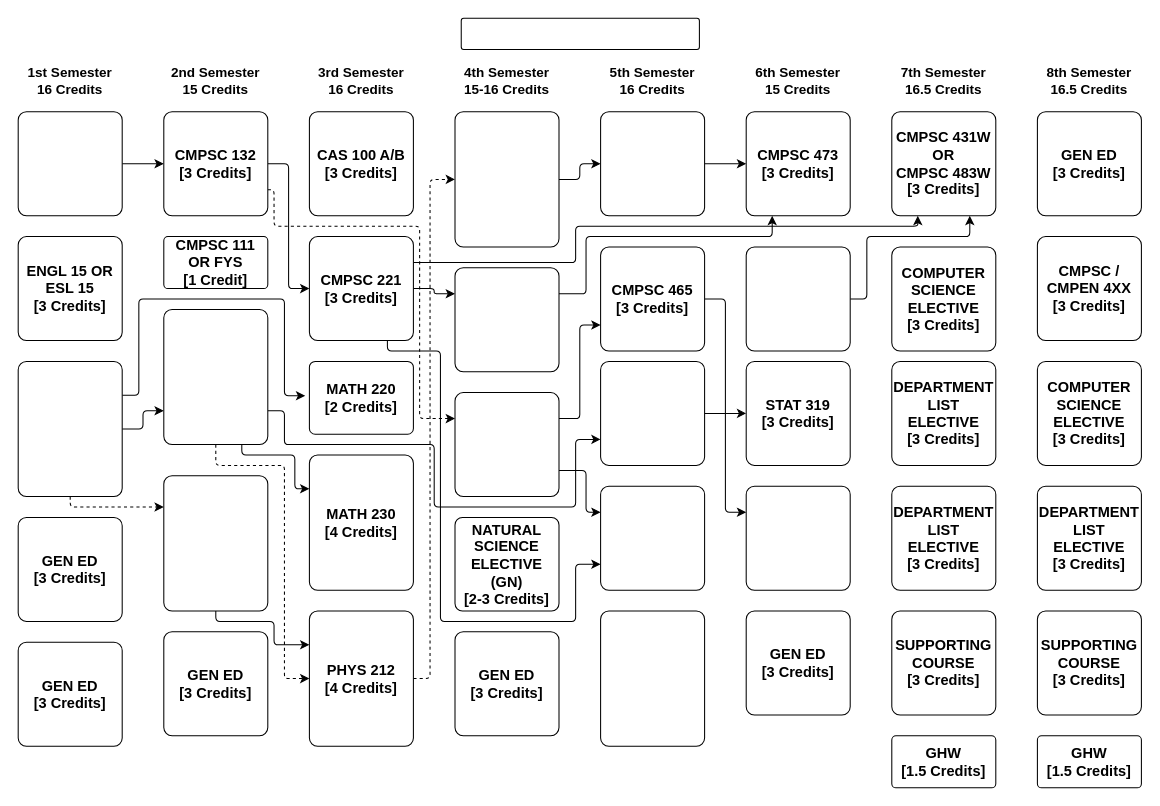
The diagram is 1160 pixels wide and 806 high, and some of its shapes have lost their labels. Here are the shapes that lost their labels. From the top down, the centre of each, then its label:
At point (579, 33): "Computer Science".
At point (69, 163): "CMPSC 131 [3 Credits]".
At point (506, 179): "CMPEN 270 [4 Credits]".
At point (652, 163): "CMPEN 331 [3 Credits]".
At point (797, 298): "ENGL 202C [3 Credits]".
At point (506, 319): "CMPSC 311 [3 Credits]".
At point (215, 376): "MATH 141 OR MATH 141E [4 Credits]".
At point (69, 428): "MATH 140 OR MATH 140E [4 Credits]".
At point (652, 412): "STAT 318 [3 Credits]".
At point (506, 444): "CMPSC 360 [3 Credits]".
At point (215, 543): "PHYS 211 [4 Credits]".
At point (652, 537): "CMPSC 461 [3 Credits]".
At point (797, 537): "CMPSC 464 [3 Credits]".
At point (652, 678): "FOREIGN LANGUAGE LEVEL 2 Proficiency [4 Credits]".
